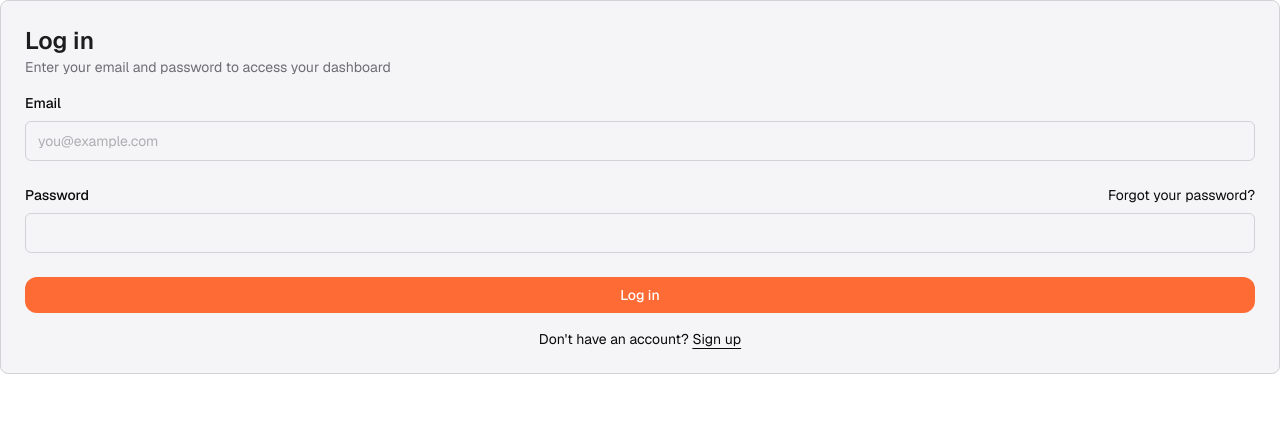
LoginForm › shows friendly error for invalid credentials and preserves email
Type "test@example.com" into the field labelled "Email".
click(640, 141); type("test@example.com")  # box [25, 121, 1255, 161]
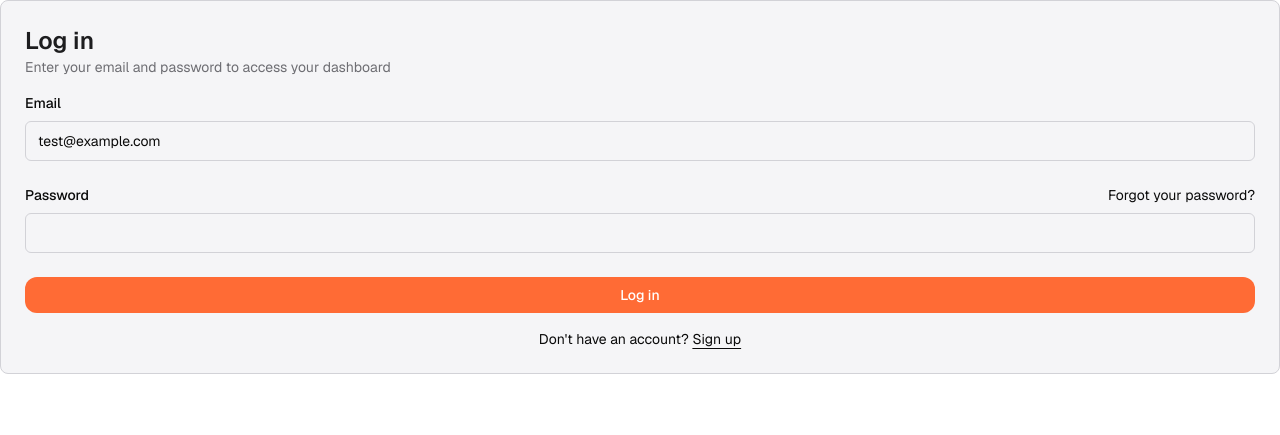
Type "wrongpassword" into the password field labelled "Password".
click(640, 233); type("wrongpassword")  # box [25, 213, 1255, 253]
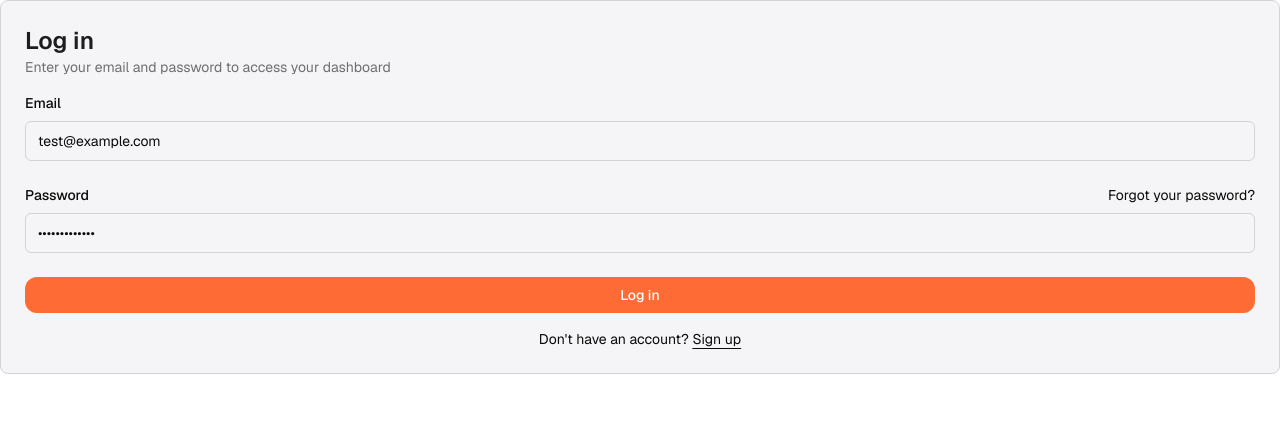
Click the button "Log in".
click(640, 295)  # box [25, 277, 1255, 313]
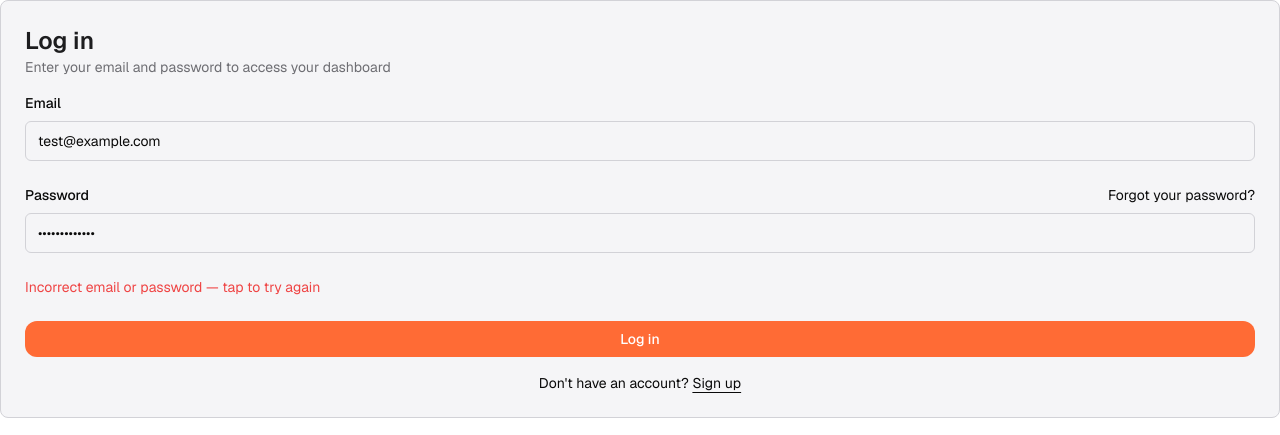
Expected: the message reads "Incorrect email or password — tap to try again", [25, 278, 320, 296]
